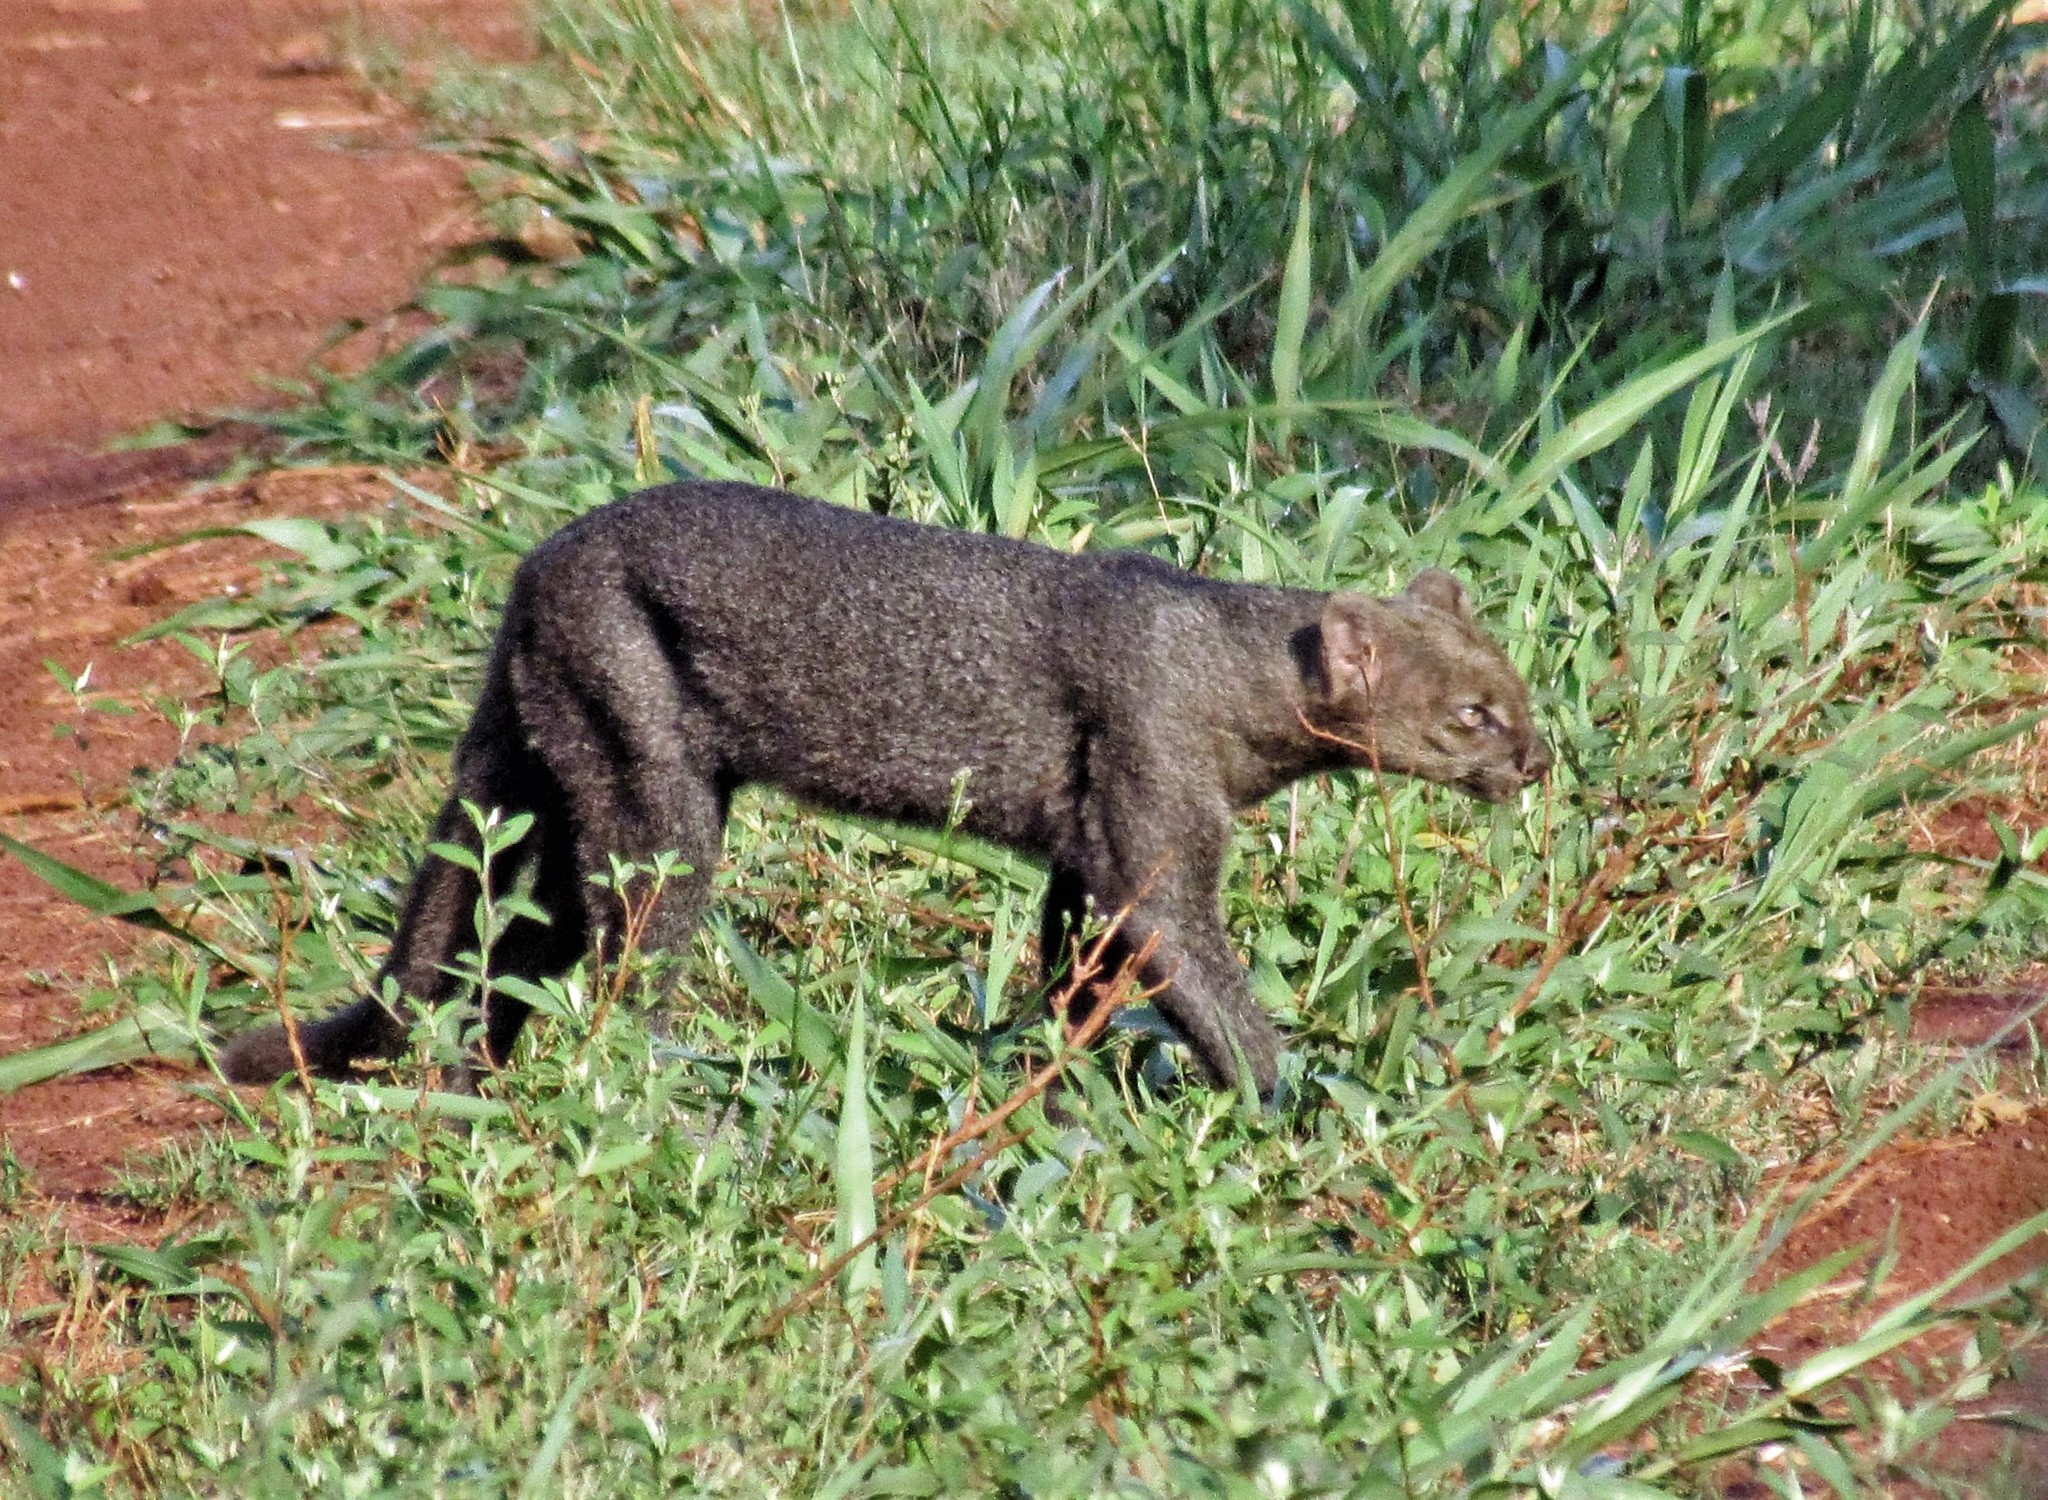Jaguarundi: (208, 464, 1553, 1144)
